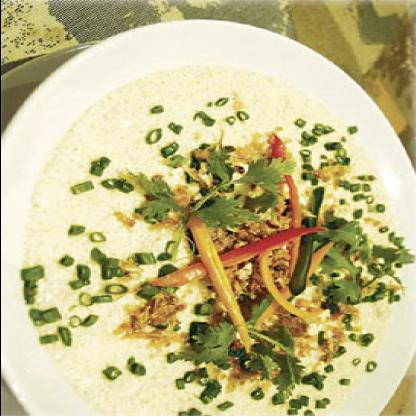Kaithoon: (1, 59, 412, 415)
